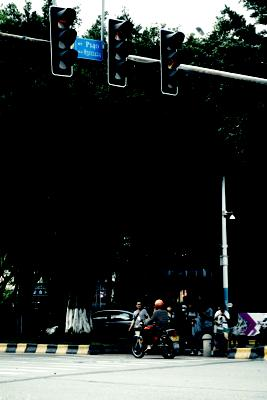International Road Signal Light: (49, 7, 79, 77), (159, 29, 186, 95), (108, 19, 132, 85)
